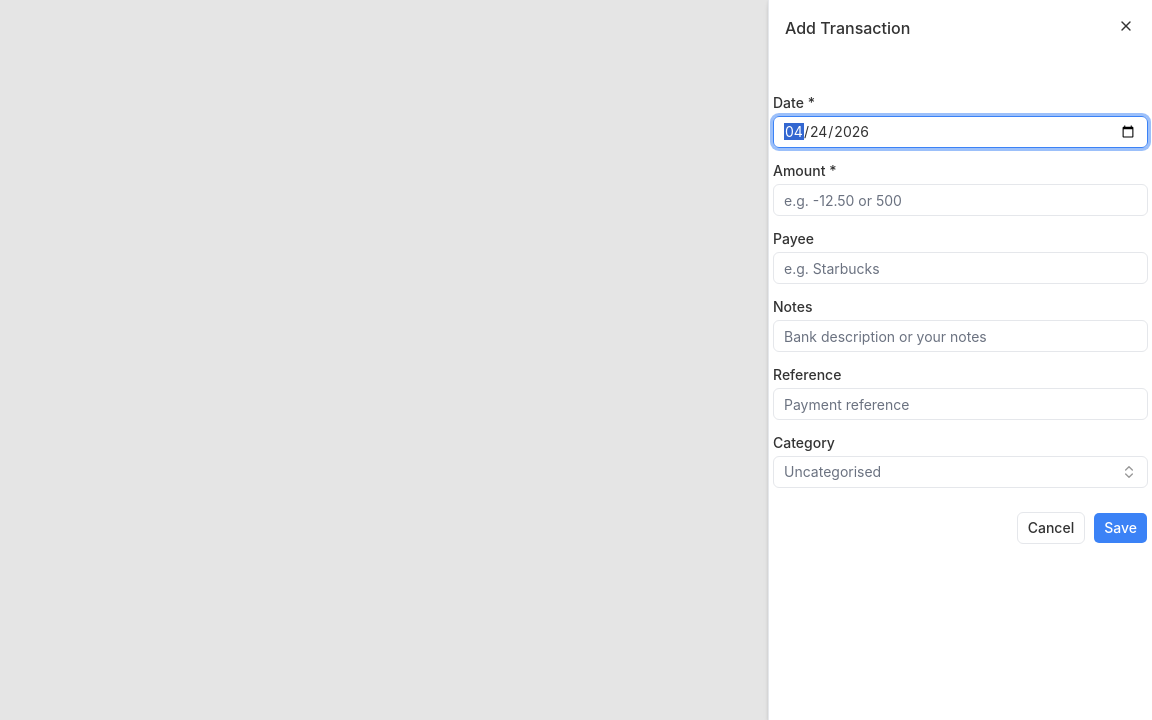
TransactionFormSheet — create mode › blocks submit when amount is missing
This screenshot has width=1152, height=720.
Expected: the number field with test id "tx-amount" is shown, [773, 184, 1148, 216]
# Leave amount empty
Click the button with test id "tx-save" at [1121, 528], box [1093, 512, 1148, 544]
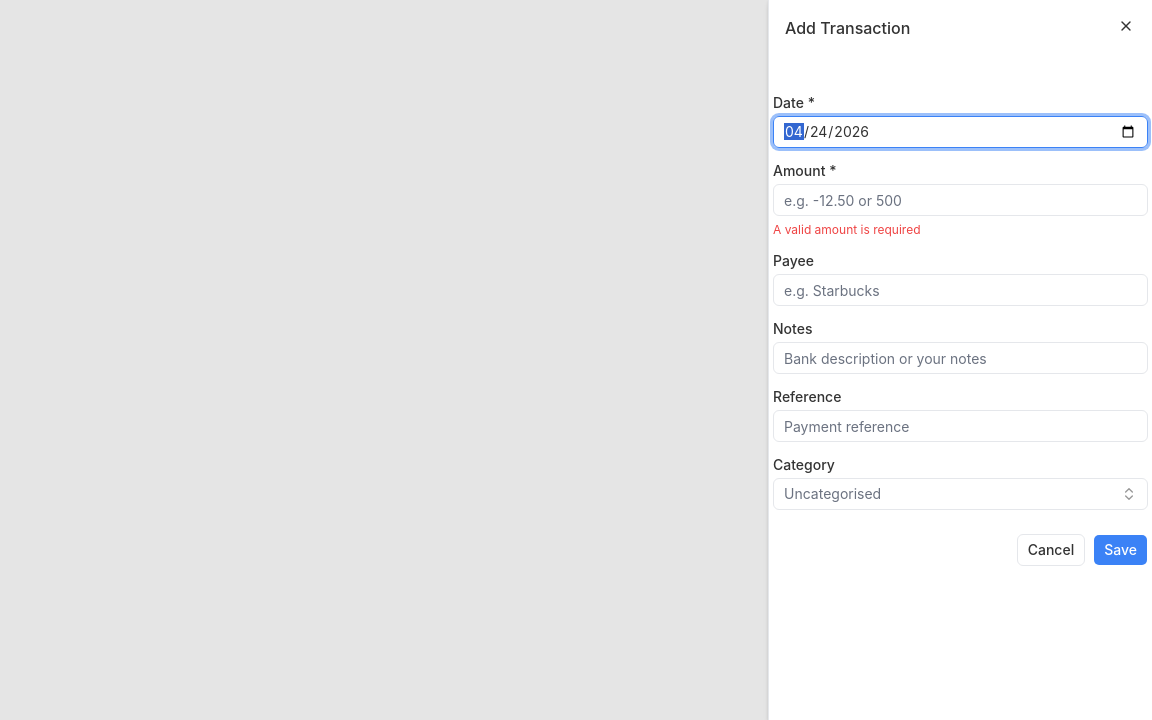
Expected: the text "A valid amount is required" is shown, [773, 222, 920, 237]
